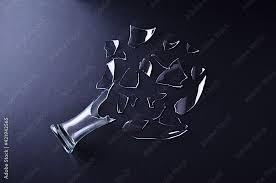glass shard: (50, 89, 116, 153), (174, 67, 207, 115), (156, 58, 188, 88), (121, 120, 157, 140), (128, 25, 156, 48), (154, 106, 183, 128), (96, 59, 114, 90), (159, 125, 188, 139), (119, 68, 139, 88), (103, 40, 120, 58), (151, 53, 170, 69), (147, 93, 167, 108), (117, 91, 129, 113), (139, 58, 152, 77), (163, 40, 180, 51), (187, 43, 201, 55), (128, 94, 138, 108), (120, 51, 127, 60)
